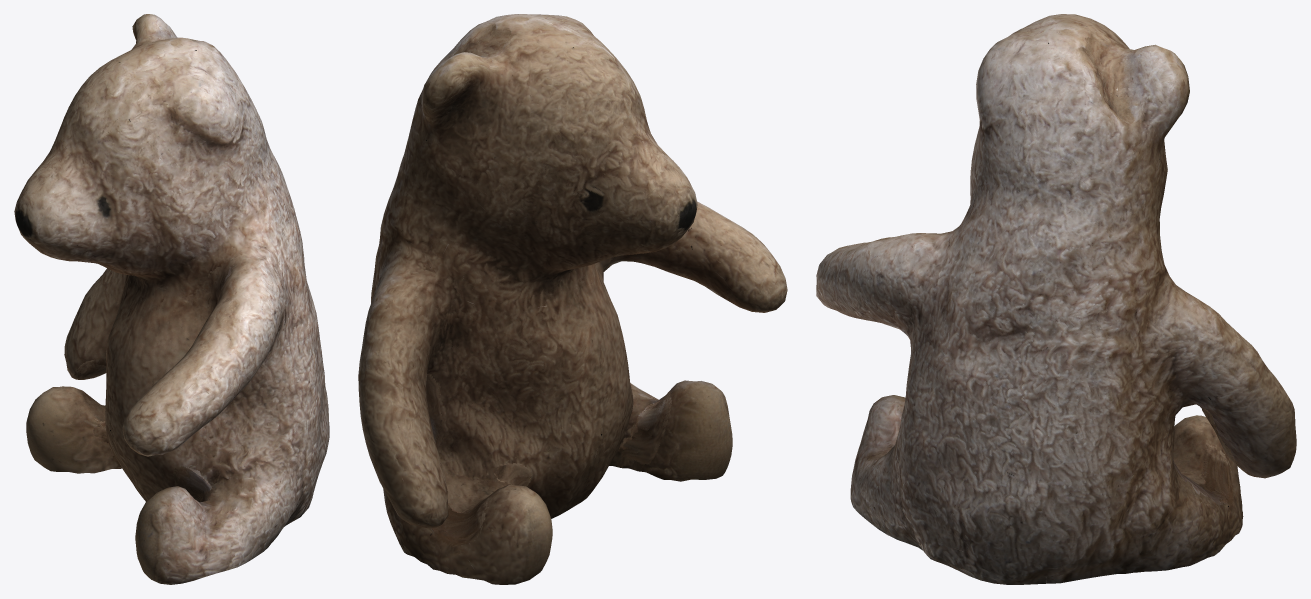
File: teddy.glb
The picture shows the model from 3 angles, left to right: view 1: azimuth 30°, elevation 25°; view 2: azimuth 150°, elevation 25°; view 3: azimuth 270°, elevation 25°; orthographic projection. The views are drawn at different scales.
Parts seen in each view (by area): view 1: Object_4.009; view 2: Object_4.009; view 3: Object_4.009.
Part boxes in pixels (left/top/right/bottom): Object_4.009: left=14, top=14, right=329, bottom=584; Object_4.009: left=358, top=14, right=787, bottom=584; Object_4.009: left=816, top=14, right=1296, bottom=584.
Size of the model in its own units: 0.2814 by 0.4308 by 0.3714.
Materials: 1 (1 with a texture image).
